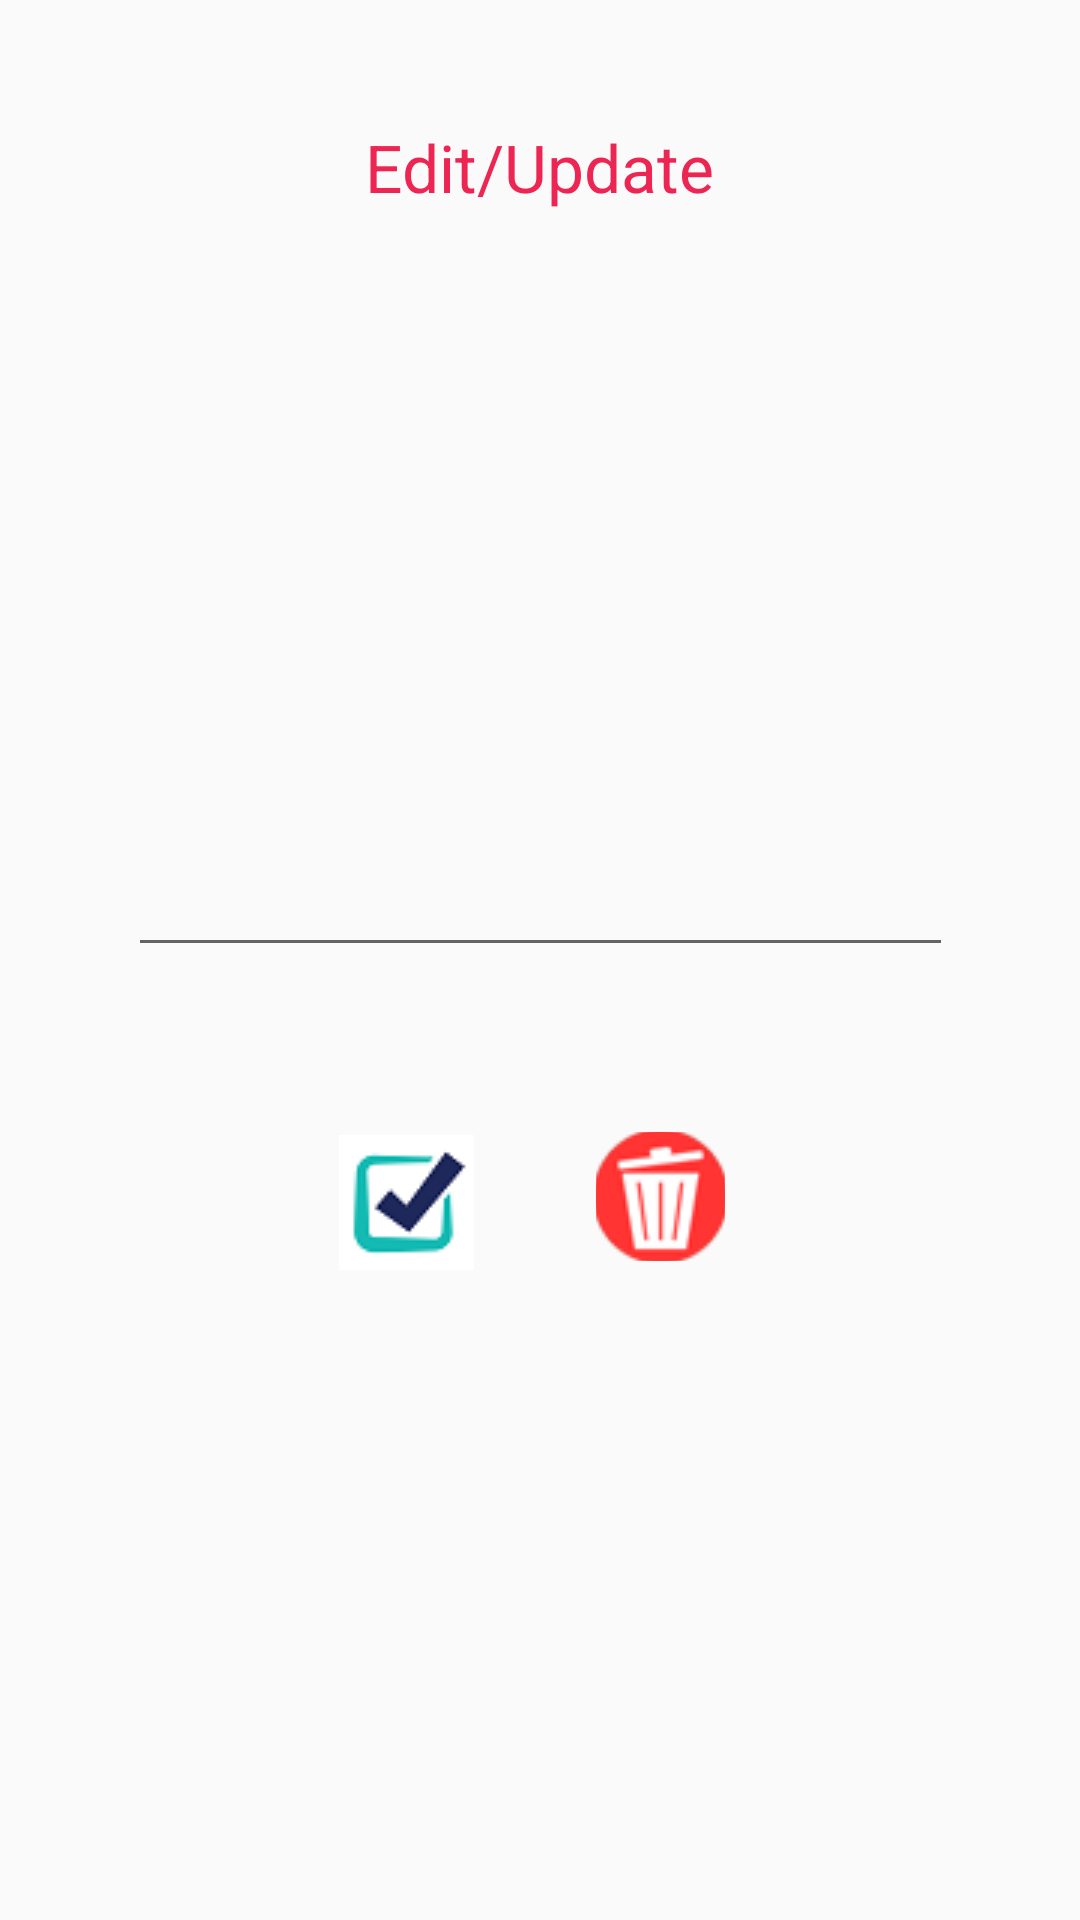

Where icons sit on this 1080x1920 app screen, as (x1, y1, x2, y2):
completed: (353, 1152, 466, 1253)
remove: (596, 1132, 725, 1261)
